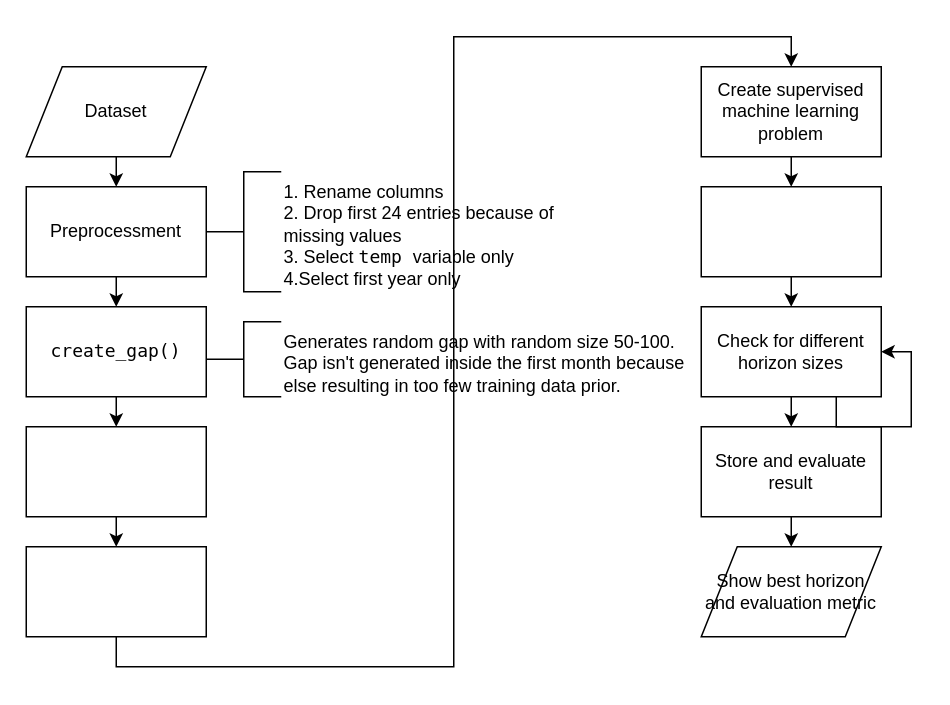
This 950x705 diagram has some shape labels left out. The shapes that lost their labels are listed below. From the top down, each one's centre as x and y in pixels, then its label:
At (790,231): "Based on gap create train, test, and eval splits".
At (115,471): "Analyze visually".
At (115,591): "Scale variables and label encode if needed".
